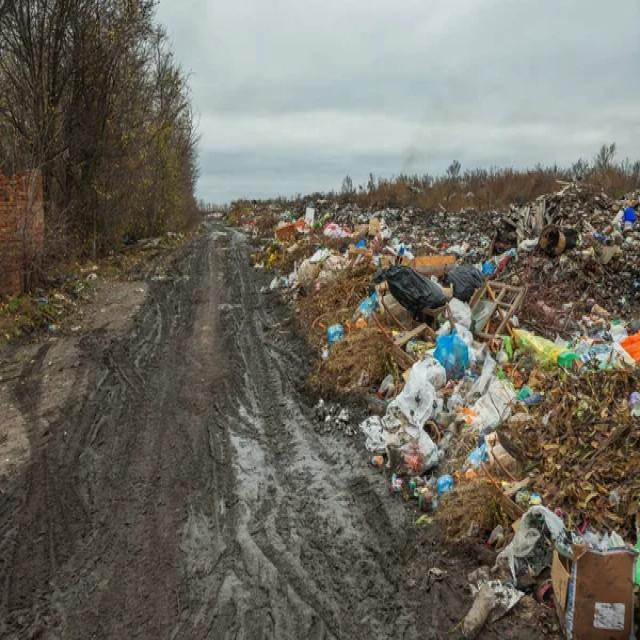Trashbag: (379, 264, 447, 317), (441, 262, 486, 302)
